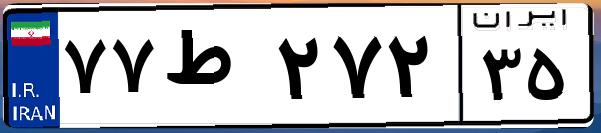2: (270, 28, 330, 110), (385, 28, 445, 110)
3: (475, 38, 525, 113)
5: (525, 38, 570, 115)
7: (330, 28, 385, 110), (57, 26, 110, 100), (110, 28, 158, 98)
ط: (158, 20, 270, 120)
